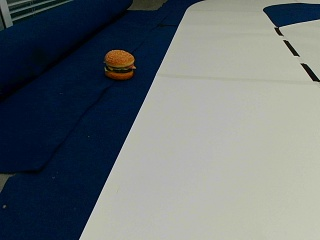burger: (104, 48, 135, 78)
